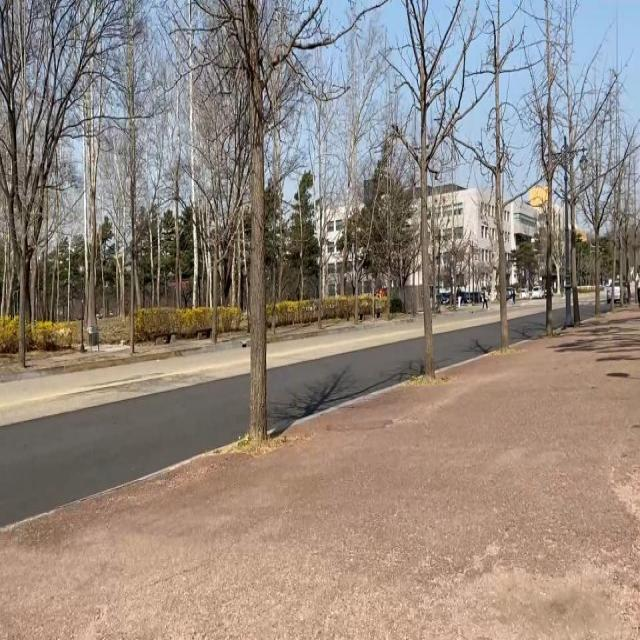sidewalk: (0, 308, 640, 640), (0, 334, 249, 383), (266, 315, 417, 342)
